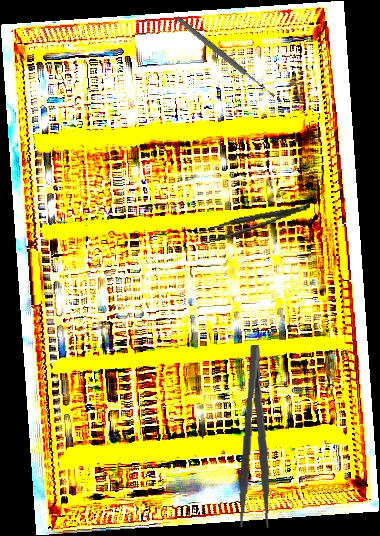Dressing Forceps: (236, 344, 280, 529)
Surgical Spoon: (174, 15, 277, 100)
Tissue Forceps: (197, 203, 314, 245)
